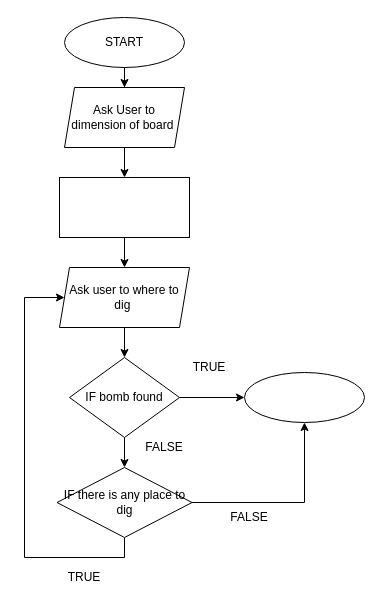
The diagram is 382 pixels wide and 605 high, and some of its shapes have lost their labels. The shapes that lost their labels are listed below. From the top down, each one's box as (x1, y1, x2, y2) in pixels, then its label:
(58, 176, 190, 238): Create board and plant bombs on board
(244, 372, 364, 422): GAME OVER
